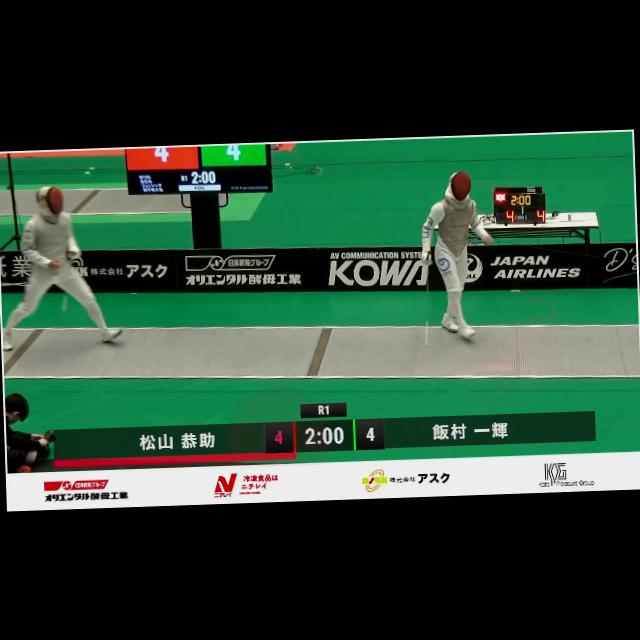blade: (415, 253, 438, 352), (56, 247, 86, 316)
